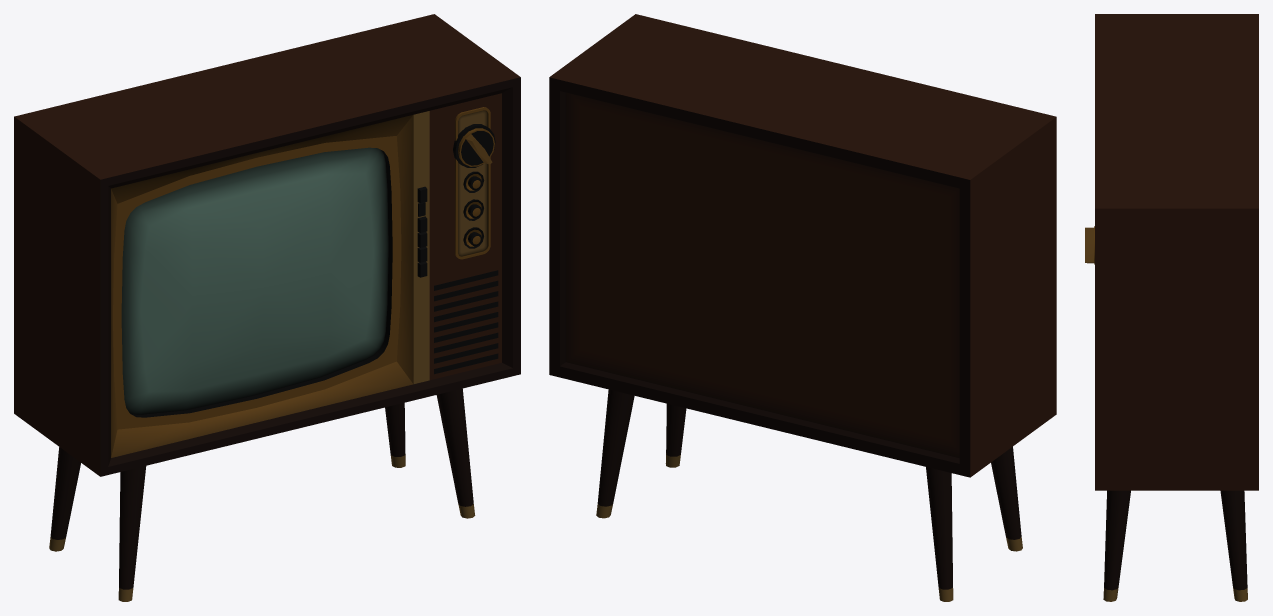
The model's file is retro_tv_02.FBX.
The picture shows the model from 3 angles, left to right: view 1: azimuth 30°, elevation 25°; view 2: azimuth 150°, elevation 25°; view 3: azimuth 270°, elevation 25°; orthographic projection. The views are drawn at different scales.
Visible parts, largest first — view 1: old_tv_02; view 2: old_tv_02; view 3: old_tv_02.
Part boxes in pixels (bbox=[...]): old_tv_02: bbox=[14, 14, 520, 601]; old_tv_02: bbox=[549, 14, 1056, 601]; old_tv_02: bbox=[1085, 14, 1258, 601].
Size of the model in its own units: 85.6 by 84.29 by 32.32.
